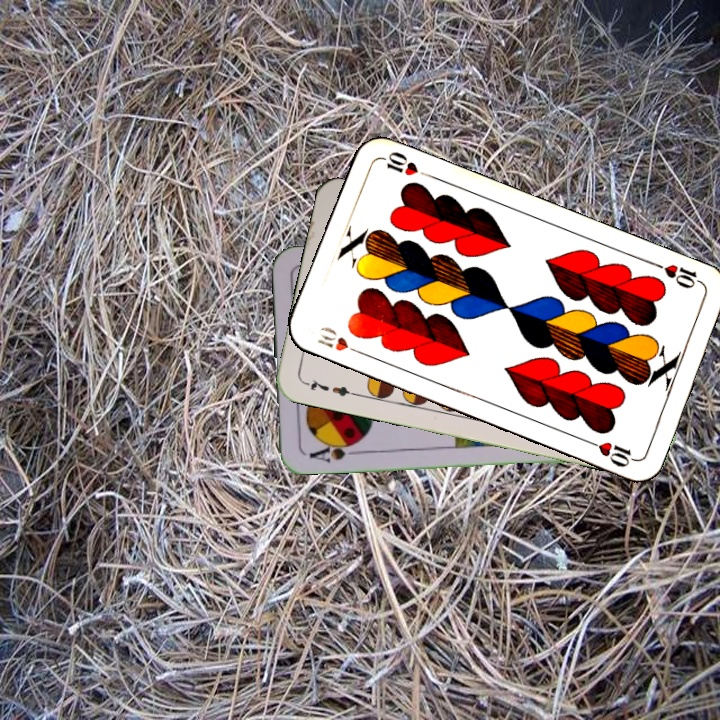E7: (300, 375, 359, 399)
H10: (313, 322, 366, 358), (649, 258, 706, 291)
SA: (305, 437, 362, 465)
